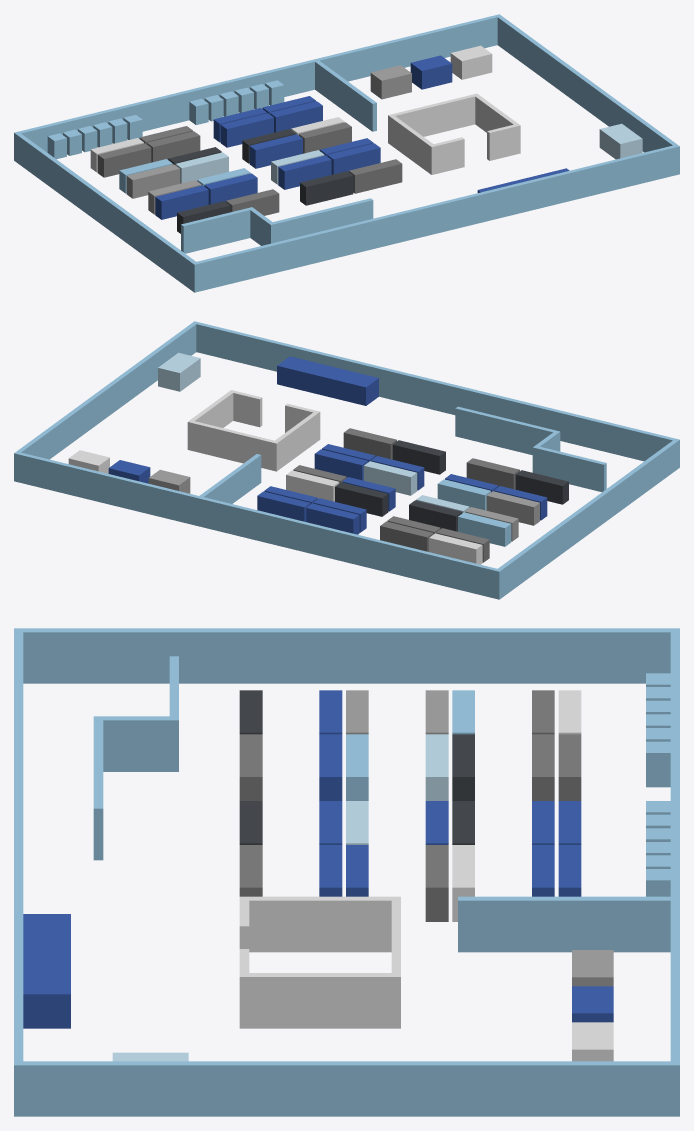
The model's file is example_factory_nofloor.dae.
3 views of the same model, one above another, from view 1: azimuth 30°, elevation 25°; view 2: azimuth 150°, elevation 25°; view 3: azimuth 270°, elevation 25° (orthographic). The views are drawn at different scales.
Parts seen in each view (by area): view 1: 63502ec5163d36415474ed7d (×29); view 2: 63502ec5163d36415474ed7d (×30); view 3: 63502ec5163d36415474ed7d (×36).
Boxes of the visible parts, x1,y1,x2,y2 form: 63502ec5163d36415474ed7d (×29): (14,14,679,292); 63502ec5163d36415474ed7d (×30): (14,321,679,599); 63502ec5163d36415474ed7d (×36): (14,628,679,1116).
Bounding box in the file's own units: 54.5 × 35.1 × 3.
